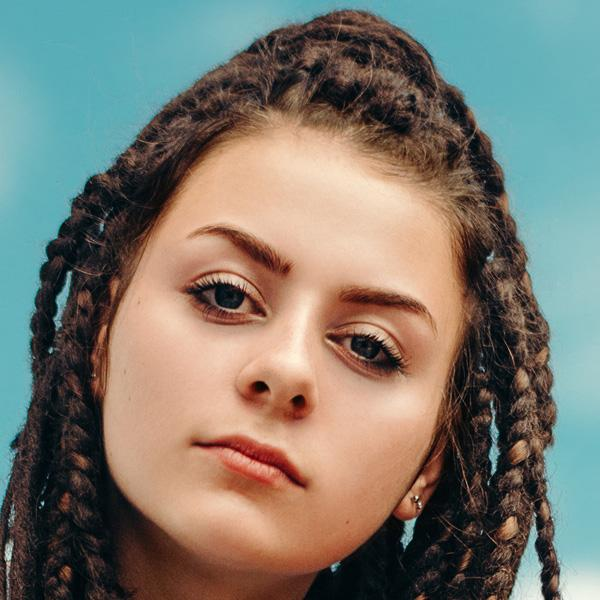Eyes: (316, 309, 411, 388), (178, 261, 273, 334)
